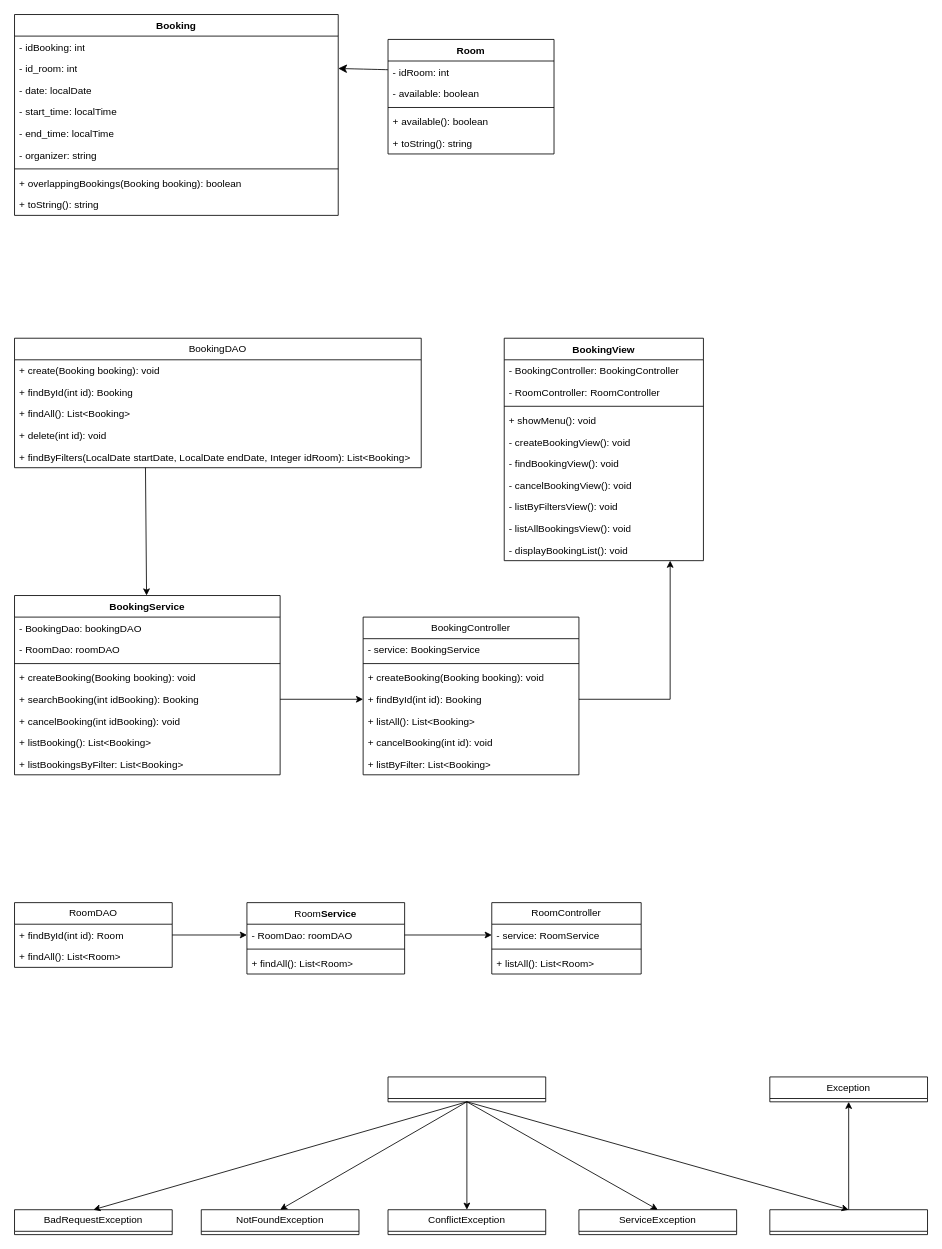
This 942x1249 diagram has some shape labels left out. The centre of each missing label's shape, as x and y in pixels:
"DataAccessException" belongs at pixel 848 1222.
"RuntimeException" belongs at pixel 466 1089.
